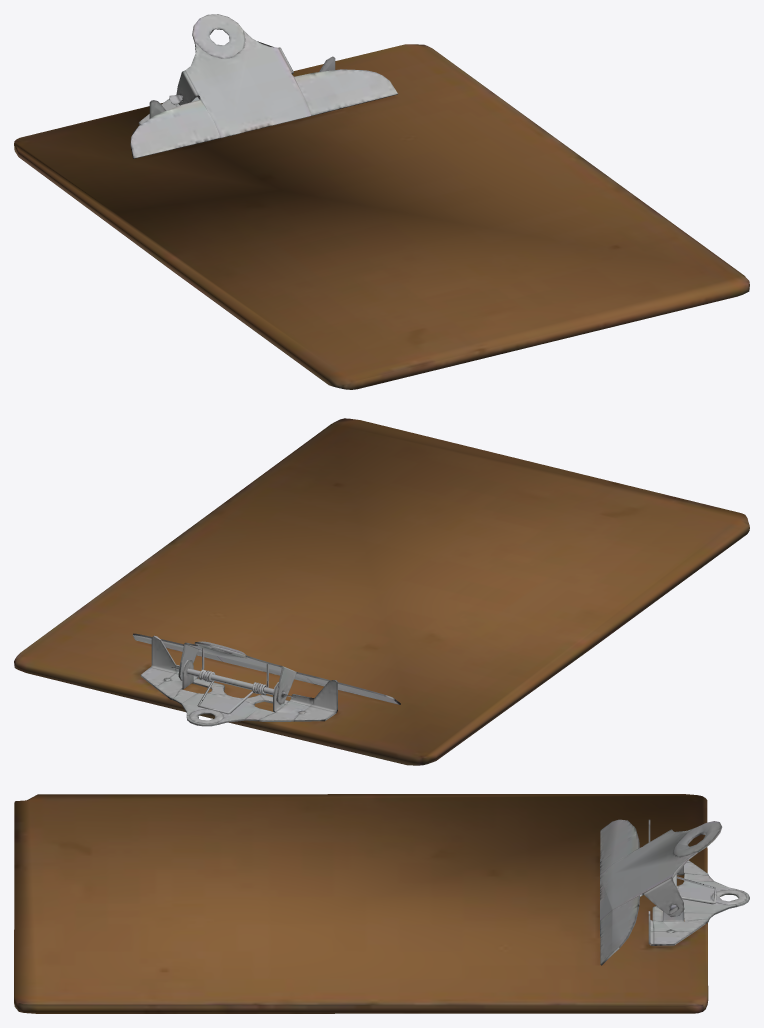
Rendered from clipboard.glb.
3 views of the same model, one above another, from view 1: azimuth 30°, elevation 25°; view 2: azimuth 150°, elevation 25°; view 3: azimuth 270°, elevation 25° (orthographic). The views are drawn at different scales.
Visible parts, largest first — view 1: clipboard; view 2: clipboard; view 3: clipboard.
Boxes of the visible parts, x1=… form: clipboard: x1=14, y1=14, x2=749, y2=389; clipboard: x1=14, y1=418, x2=749, y2=765; clipboard: x1=14, y1=794, x2=749, y2=1013.
Size of the model in its own units: 0.2281 by 0.042 by 0.3364.
1 material, 1 textured.
